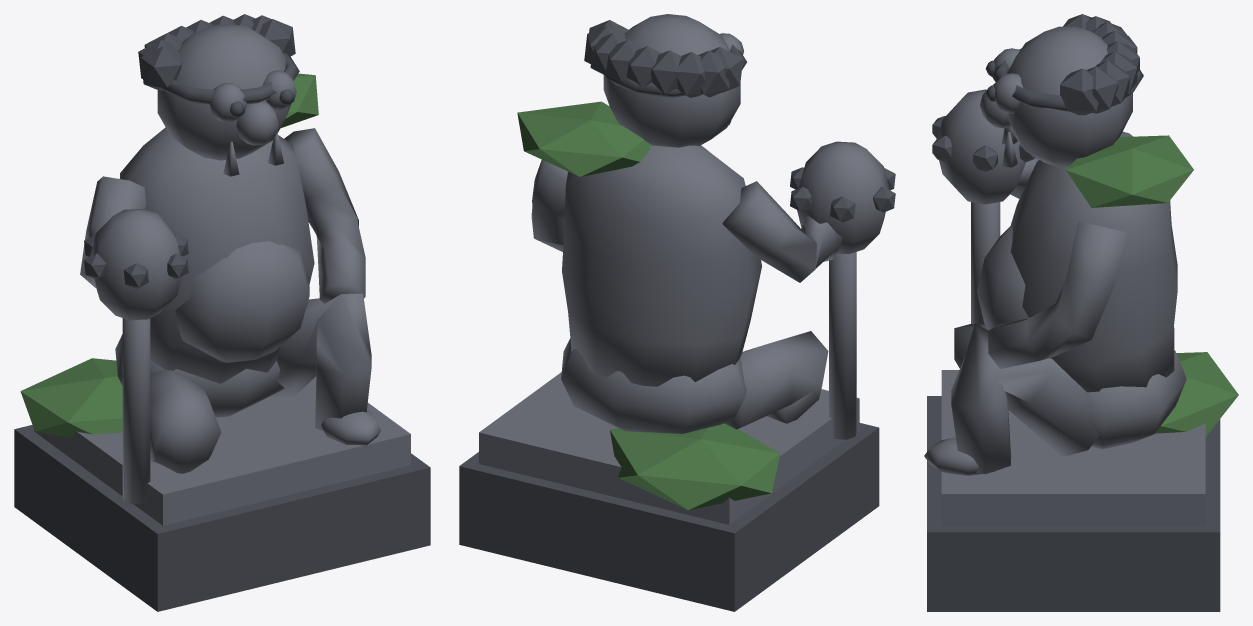
Rendered from arca.glb.
3 views of the same model, side by side, from view 1: azimuth 30°, elevation 25°; view 2: azimuth 150°, elevation 25°; view 3: azimuth 270°, elevation 25° (orthographic). The views are drawn at different scales.
Visible parts, largest first — view 1: arca_mesh; view 2: arca_mesh; view 3: arca_mesh.
Part boxes in pixels (bbox=[...]): arca_mesh: bbox=[14, 14, 430, 611]; arca_mesh: bbox=[459, 14, 895, 611]; arca_mesh: bbox=[924, 14, 1238, 611].
Bounding box in the file's own units: 1.27 × 1.92 × 1.07.
